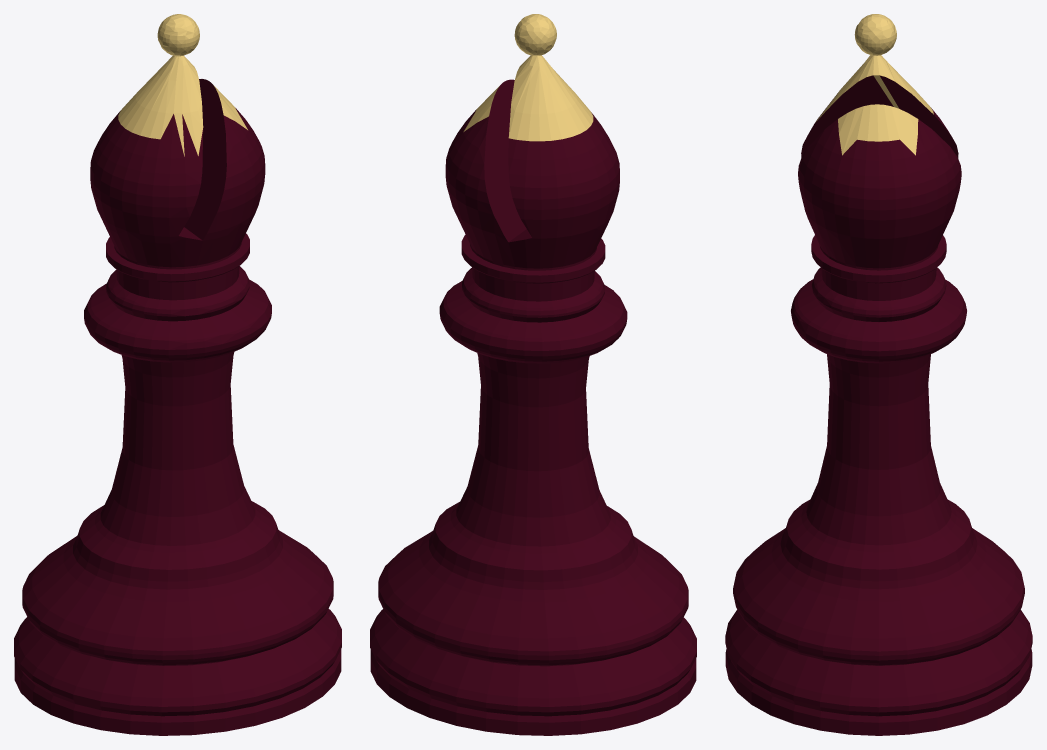
File: gercek3_b_b.glb
3 renders of one model, left to right at view 1: azimuth 30°, elevation 25°; view 2: azimuth 150°, elevation 25°; view 3: azimuth 270°, elevation 25°, orthographic.
Parts seen in each view (by area): view 1: b_b; view 2: b_b; view 3: b_b.
Boxes of the visible parts, <box> form: b_b: <box>14,14,341,735</box>; b_b: <box>370,14,696,735</box>; b_b: <box>725,14,1032,735</box>.
Size of the model in its own units: 0.418 by 0.8995 by 0.3862.
